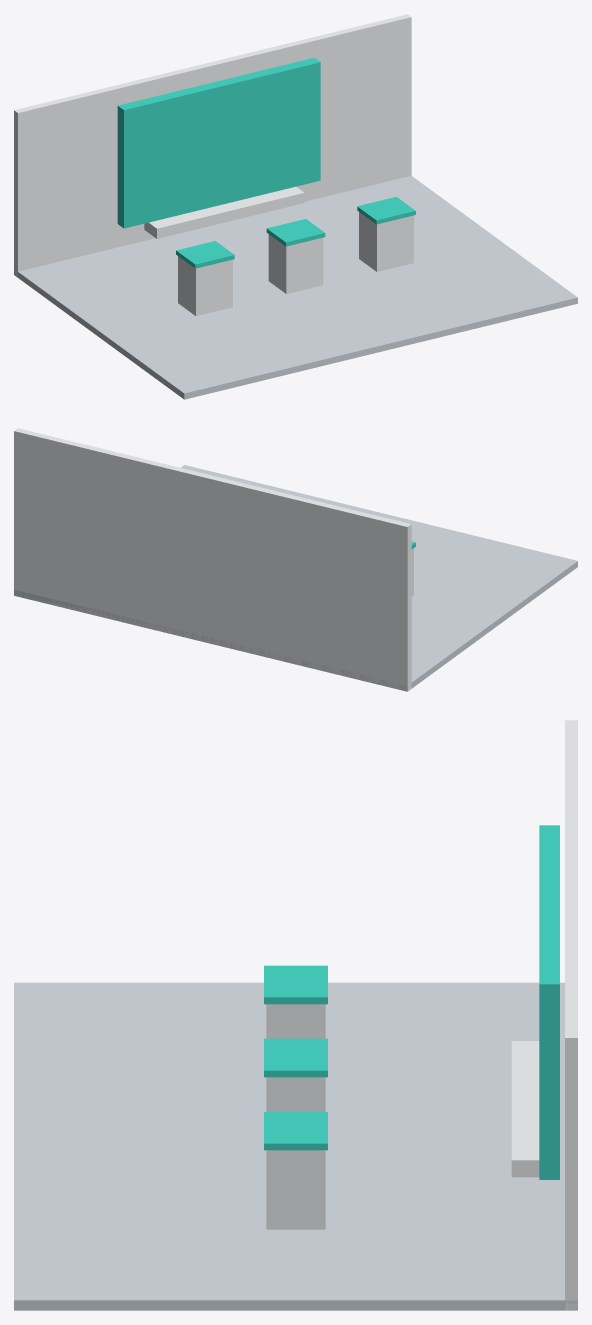
The picture shows the model from 3 angles, top to bottom: view 1: azimuth 30°, elevation 25°; view 2: azimuth 150°, elevation 25°; view 3: azimuth 270°, elevation 25°; orthographic projection. The views are drawn at different scales.
Parts seen in each view (by area): view 1: Exhibition Booth Concept; view 2: Exhibition Booth Concept; view 3: Exhibition Booth Concept.
Boxes of the visible parts, x1,y1,x2,y2 form: Exhibition Booth Concept: [14, 14, 577, 399]; Exhibition Booth Concept: [14, 428, 577, 691]; Exhibition Booth Concept: [14, 720, 577, 1310].
Bounding box in the file's own units: 8 × 3.2 × 6.
